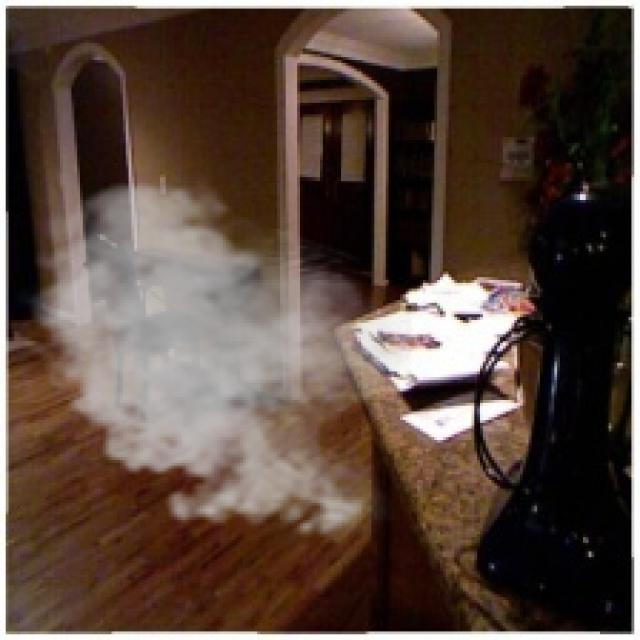smoke: (17, 174, 412, 549)
